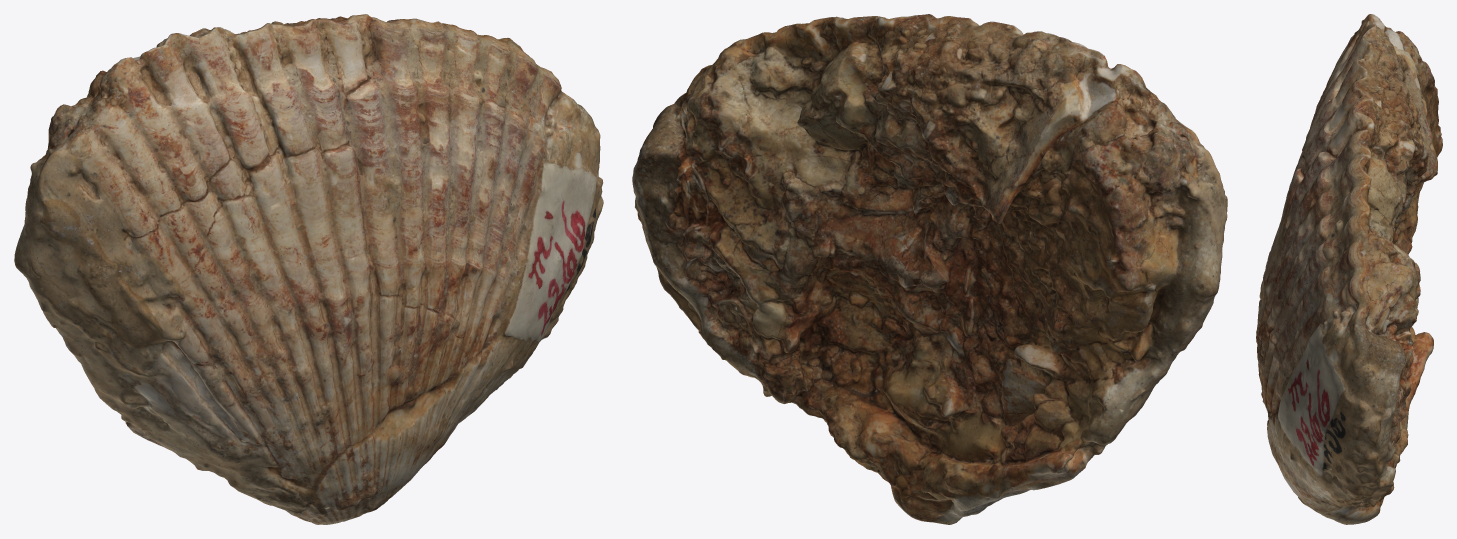
Rendered from EWS0014182.glb.
3 renders of one model, left to right at view 1: azimuth 30°, elevation 25°; view 2: azimuth 150°, elevation 25°; view 3: azimuth 270°, elevation 25°, orthographic. The views are drawn at different scales.
Parts seen in each view (by area): view 1: input; view 2: input; view 3: input.
Part boxes in pixels (<box>): input: <box>14,14,603,524</box>; input: <box>632,14,1227,524</box>; input: <box>1256,14,1442,524</box>.
Bounding box in the file's own units: 0.0426 × 0.0364 × 0.0141.
1 material, 1 textured.
